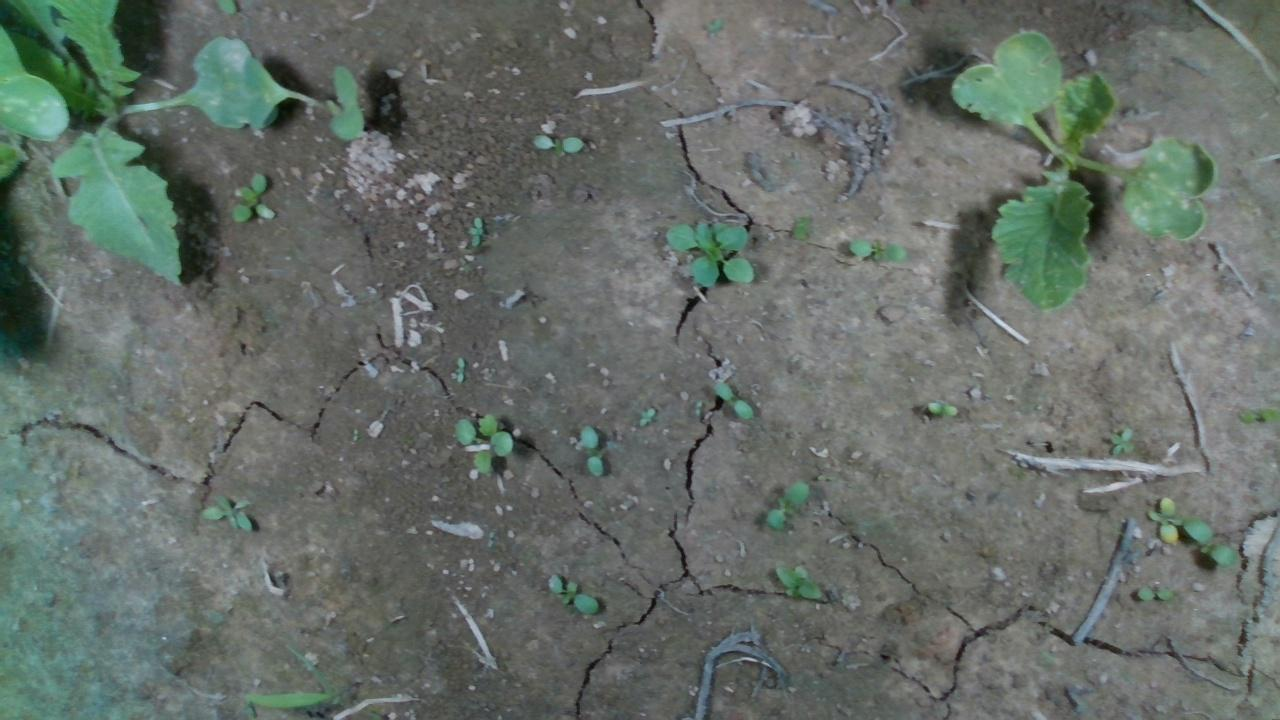weed: (453, 412, 513, 475), (1182, 516, 1234, 566), (199, 492, 254, 532), (765, 479, 808, 530), (547, 573, 599, 615), (233, 171, 275, 221), (1142, 495, 1182, 546), (774, 564, 823, 600), (713, 378, 753, 419), (848, 238, 906, 264), (579, 423, 603, 475), (533, 132, 584, 153), (1108, 426, 1134, 455), (1135, 585, 1173, 602), (926, 401, 958, 417), (466, 215, 482, 246), (637, 405, 654, 427), (454, 356, 464, 383)
